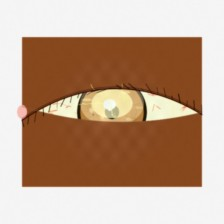corneal_ulcer: (79, 77, 146, 130)
